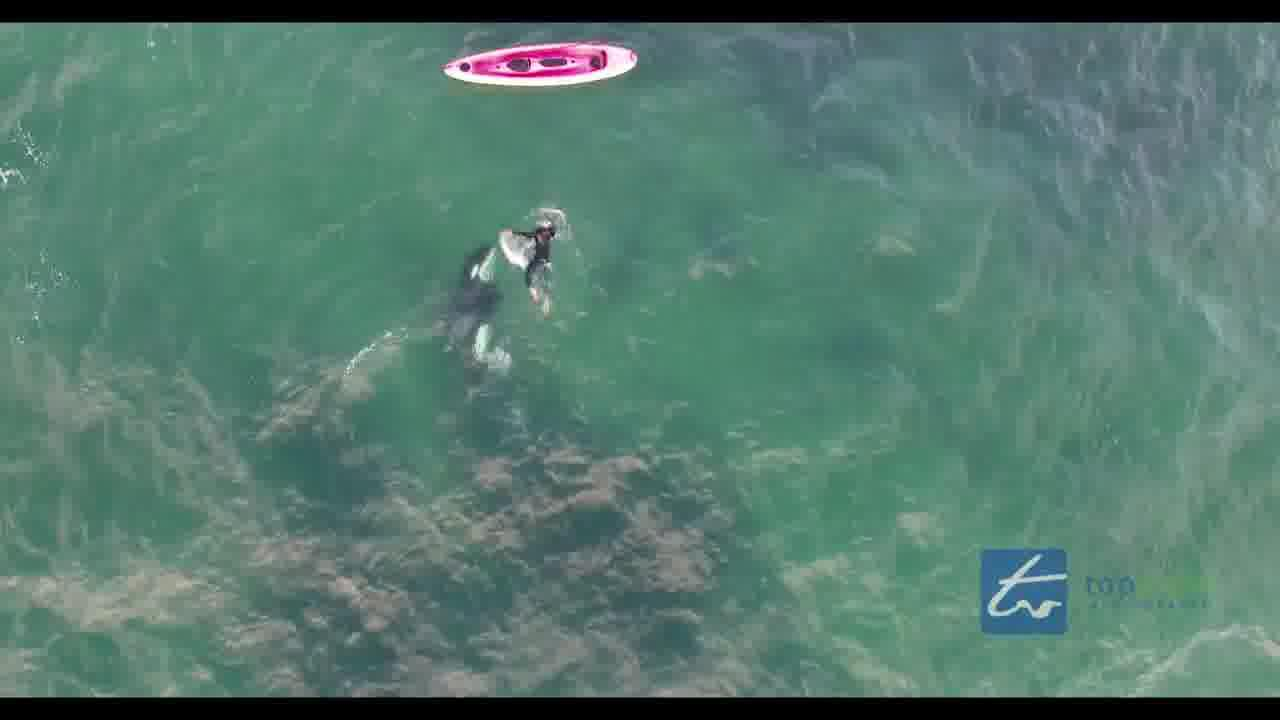swimmer: (525, 216, 558, 303)
